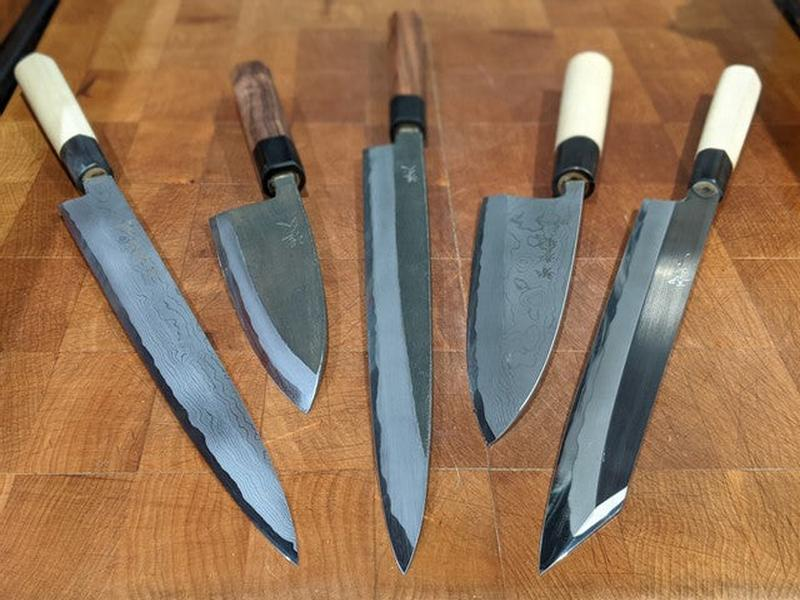KNIFE: (12, 5, 767, 582)
